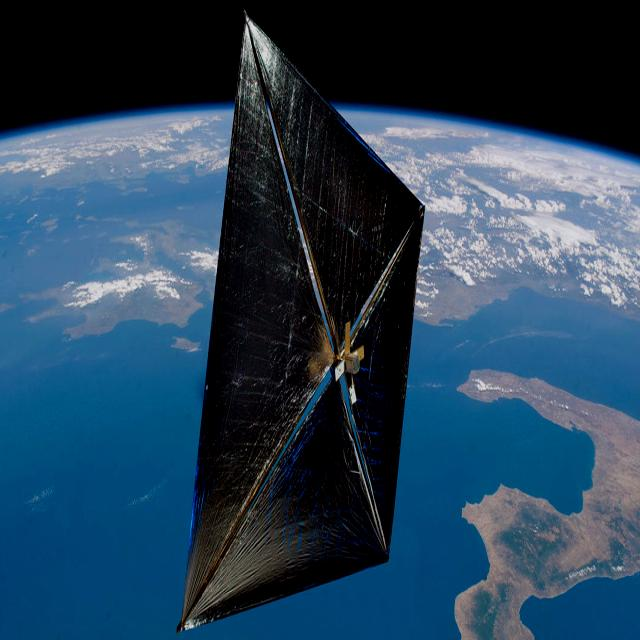medium_debris: (159, 0, 431, 640)
